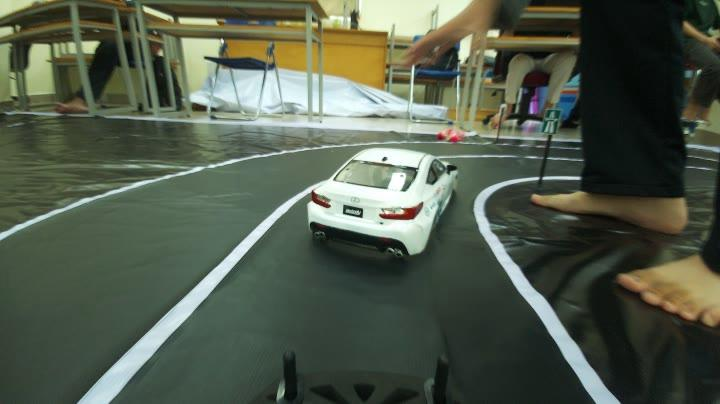car: (310, 124, 454, 264)
highway_entry: (540, 104, 563, 139)
